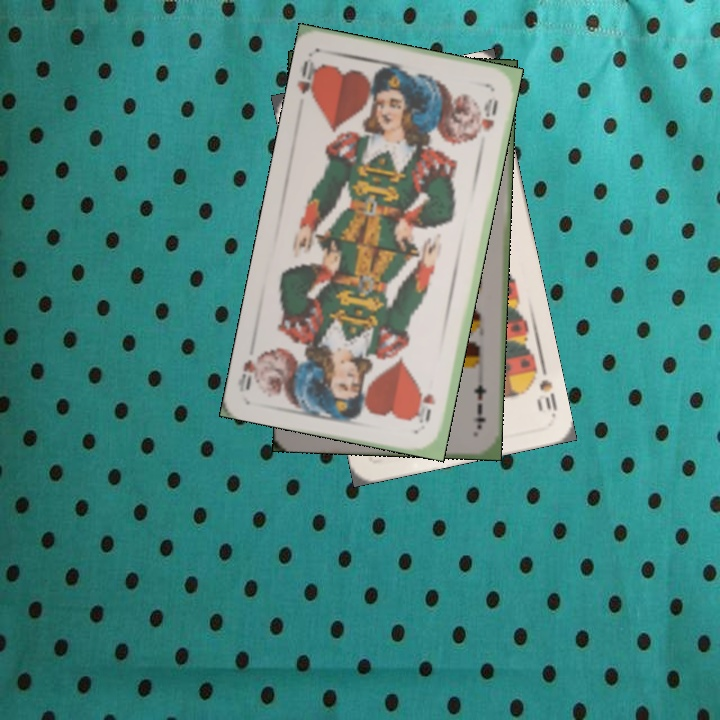E7: (469, 380, 489, 432)
HO: (293, 56, 326, 104), (415, 389, 438, 426)
S10: (526, 360, 560, 418)
